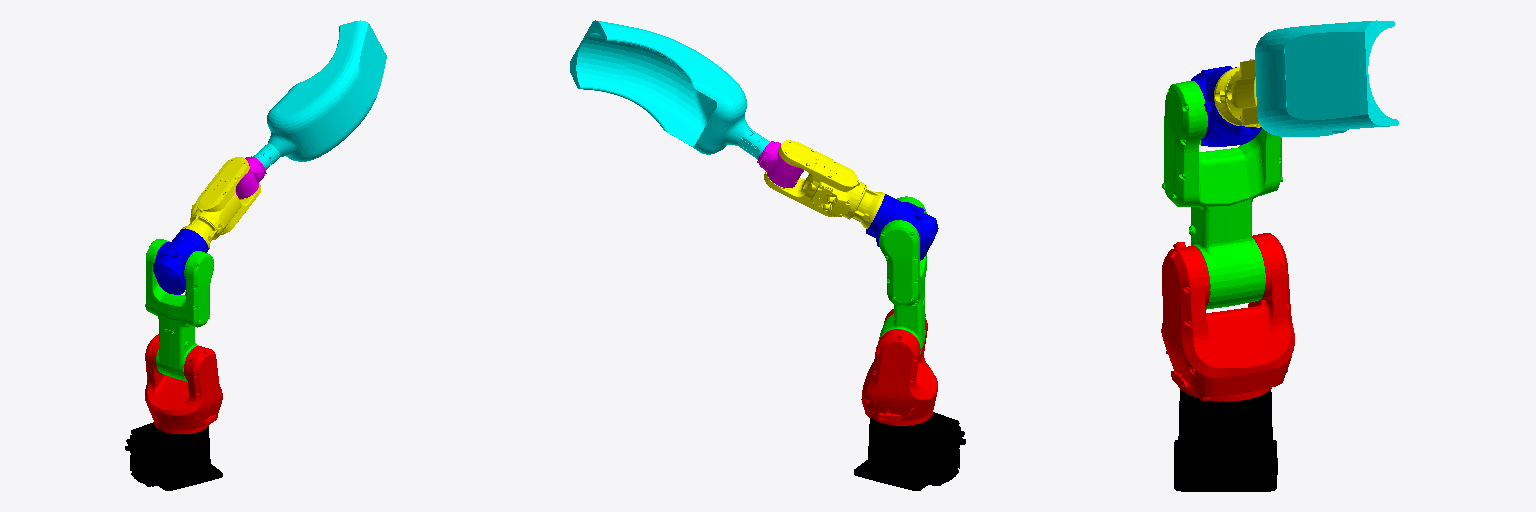
The robot description file, URDF, robot "robotcatch_robotinterface/urdf/IRB1100_xistera_right":
<?xml version="1.0" encoding="utf-8"?>
<!-- This URDF was automatically created by SolidWorks to URDF Exporter! Originally created by [author] ([email redacted]) 
     Commit Version: 1.6.0-4-g7f85cfe  Build Version: 1.6.7995.38578
     For more information, please see http://wiki.ros.org/sw_urdf_exporter -->
<robot
  name="robotcatch_robotinterface/urdf/IRB1100_xistera_right">
  <link
    name="base_link">
    <inertial>
      <origin
        xyz="-0.105283491089362 -0.0747974936088496 0.0720560356221441"
        rpy="0 0 0" />
      <mass
        value="9.57913203645447" />
      <inertia
        ixx="0.0304260038935618"
        ixy="9.44083492294534E-06"
        ixz="-0.000380191192485916"
        iyy="0.0471873448280596"
        iyz="7.14611049157652E-07"
        izz="0.0403438211255412" />
    </inertial>
    <visual>
      <origin
        xyz="0 0 0"
        rpy="0 0 0" />
      <geometry>
        <mesh
          filename="package://robotcatch_robotinterface/urdf/IRB1100_xistera_right/meshes/base_link.STL" />
      </geometry>
      <material
        name="">
        <color
          rgba="0 0 0 1" />
      </material>
    </visual>
    <collision>
      <origin
        xyz="0 0 0"
        rpy="0 0 0" />
      <geometry>
        <mesh
          filename="package://robotcatch_robotinterface/urdf/IRB1100_xistera_right/meshes/base_link.STL" />
      </geometry>
    </collision>
  </link>
  <link
    name="l1">
    <inertial>
      <origin
        xyz="0.00572305394703132 0.00265468563181887 0.07550875863073"
        rpy="0 0 0" />
      <mass
        value="8.45286215129813" />
      <inertia
        ixx="0.0476022498616155"
        ixy="0.0046357398431065"
        ixz="0.000433989974690969"
        iyy="0.0384660007274197"
        iyz="-0.000174868381419662"
        izz="0.0363031349606012" />
    </inertial>
    <visual>
      <origin
        xyz="0 0 0"
        rpy="0 0 0" />
      <geometry>
        <mesh
          filename="package://robotcatch_robotinterface/urdf/IRB1100_xistera_right/meshes/l1.STL" />
      </geometry>
      <material
        name="">
        <color
          rgba="1 0 0 1" />
      </material>
    </visual>
    <collision>
      <origin
        xyz="0 0 0"
        rpy="0 0 0" />
      <geometry>
        <mesh
          filename="package://robotcatch_robotinterface/urdf/IRB1100_xistera_right/meshes/l1.STL" />
      </geometry>
    </collision>
  </link>
  <joint
    name="j1"
    type="revolute">
    <origin
      xyz="-0.078905 -0.074803 0.15815"
      rpy="0 -0.017453 0" />
    <parent
      link="base_link" />
    <child
      link="l1" />
    <axis
      xyz="0 0 1" />
    <limit
      lower="-2.7453"
      upper="3.1888"
      effort="0"
      velocity="0" />
  </joint>
  <link
    name="l2">
    <inertial>
      <origin
        xyz="0.0330351324578218 -0.110024058313502 0.00211568322506046"
        rpy="0 0 0" />
      <mass
        value="6.55953315002978" />
      <inertia
        ixx="0.0736114896732282"
        ixy="0.0127315502901848"
        ixz="0.00502097661391875"
        iyy="0.0211742478294637"
        iyz="0.0013074234187404"
        izz="0.0716132422818738" />
    </inertial>
    <visual>
      <origin
        xyz="0 0 0"
        rpy="0 0 0" />
      <geometry>
        <mesh
          filename="package://robotcatch_robotinterface/urdf/IRB1100_xistera_right/meshes/l2.STL" />
      </geometry>
      <material
        name="">
        <color
          rgba="0 1 0 1" />
      </material>
    </visual>
    <collision>
      <origin
        xyz="0 0 0"
        rpy="0 0 0" />
      <geometry>
        <mesh
          filename="package://robotcatch_robotinterface/urdf/IRB1100_xistera_right/meshes/l2.STL" />
      </geometry>
    </collision>
  </link>
  <joint
    name="j2"
    type="continuous">
    <origin
      xyz="0 0 0.1775"
      rpy="-1.5708 -0.21645 2.9548" />
    <parent
      link="l1" />
    <child
      link="l2" />
    <axis
      xyz="0.53585 0.11783 -0.83605" />
  </joint>
  <link
    name="l3">
    <inertial>
      <origin
        xyz="0.00615223764918336 -0.00537758298118202 0.0496803044207493"
        rpy="0 0 0" />
      <mass
        value="2.86220192591443" />
      <inertia
        ixx="0.00441738632103778"
        ixy="0.000350530028062172"
        ixz="1.90998630024514E-05"
        iyy="0.00487160500741025"
        iyz="-2.30478869705661E-05"
        izz="0.0059901783669827" />
    </inertial>
    <visual>
      <origin
        xyz="0 0 0"
        rpy="0 0 0" />
      <geometry>
        <mesh
          filename="package://robotcatch_robotinterface/urdf/IRB1100_xistera_right/meshes/l3.STL" />
      </geometry>
      <material
        name="">
        <color
          rgba="0 0 1 1" />
      </material>
    </visual>
    <collision>
      <origin
        xyz="0 0 0"
        rpy="0 0 0" />
      <geometry>
        <mesh
          filename="package://robotcatch_robotinterface/urdf/IRB1100_xistera_right/meshes/l3.STL" />
      </geometry>
    </collision>
  </link>
  <joint
    name="j3"
    type="continuous">
    <origin
      xyz="0.031007 -0.26893 0.039981"
      rpy="-3.1416 -0.58075 0.21645" />
    <parent
      link="l2" />
    <child
      link="l3" />
    <axis
      xyz="0 0 1" />
  </joint>
  <link
    name="l4">
    <inertial>
      <origin
        xyz="0.00242926853281289 -0.000509824913846435 0.116310680318752"
        rpy="0 0 0" />
      <mass
        value="3.89100991021781" />
      <inertia
        ixx="0.018613433861176"
        ixy="-0.000155504657462431"
        ixz="0.000145978743861964"
        iyy="0.0175184111032994"
        iyz="0.000158188476271021"
        izz="0.00525764583572195" />
    </inertial>
    <visual>
      <origin
        xyz="0 0 0"
        rpy="0 0 0" />
      <geometry>
        <mesh
          filename="package://robotcatch_robotinterface/urdf/IRB1100_xistera_right/meshes/l4.STL" />
      </geometry>
      <material
        name="">
        <color
          rgba="1 1 0 1" />
      </material>
    </visual>
    <collision>
      <origin
        xyz="0 0 0"
        rpy="0 0 0" />
      <geometry>
        <mesh
          filename="package://robotcatch_robotinterface/urdf/IRB1100_xistera_right/meshes/l4.STL" />
      </geometry>
    </collision>
  </link>
  <joint
    name="j4"
    type="revolute">
    <origin
      xyz="-0.062356 0.040055 0.0485"
      rpy="2.8023 -1.5708 3.041" />
    <parent
      link="l3" />
    <child
      link="l4" />
    <axis
      xyz="0 0 1" />
    <limit
      lower="-3.4761"
      upper="2.8071"
      effort="0"
      velocity="0" />
  </joint>
  <link
    name="l5">
    <inertial>
      <origin
        xyz="-0.000543297924133823 0.0129323438733311 0.0136708003755951"
        rpy="0 0 0" />
      <mass
        value="0.000330181881227886" />
      <inertia
        ixx="2.90532047410457E-07"
        ixy="3.68743103233192E-09"
        ixz="2.85505526602895E-10"
        iyy="2.03474589194246E-07"
        iyz="-6.75081324979404E-09"
        izz="3.19916580648221E-07" />
    </inertial>
    <visual>
      <origin
        xyz="0 0 0"
        rpy="0 0 0" />
      <geometry>
        <mesh
          filename="package://robotcatch_robotinterface/urdf/IRB1100_xistera_right/meshes/l5.STL" />
      </geometry>
      <material
        name="">
        <color
          rgba="1 0 1 1" />
      </material>
    </visual>
    <collision>
      <origin
        xyz="0 0 0"
        rpy="0 0 0" />
      <geometry>
        <mesh
          filename="package://robotcatch_robotinterface/urdf/IRB1100_xistera_right/meshes/l5.STL" />
      </geometry>
    </collision>
  </link>
  <joint
    name="j5"
    type="revolute">
    <origin
      xyz="-0.0020854 -0.015149 0.2265"
      rpy="1.5708 0.2882 3.0066" />
    <parent
      link="l4" />
    <child
      link="l5" />
    <axis
      xyz="0 0 1" />
    <limit
      lower="-2.8881"
      upper="1.3007"
      effort="0"
      velocity="0" />
  </joint>
  <link
    name="l6">
    <inertial>
      <origin
        xyz="-0.017903 0.00035803 0.23098"
        rpy="0 0 0" />
      <mass
        value="2.6332" />
      <inertia
        ixx="0.013315"
        ixy="-8.8583E-05"
        ixz="0.0021755"
        iyy="0.0089519"
        iyz="-4.5071E-05"
        izz="0.010571" />
    </inertial>
    <visual>
      <origin
        xyz="0 0 0"
        rpy="0 0 0" />
      <geometry>
        <mesh
          filename="package://robotcatch_robotinterface/urdf/IRB1100_xistera_right/meshes/l6.STL" />
      </geometry>
      <material
        name="">
        <color
          rgba="0 1 1 1" />
      </material>
    </visual>
    <collision>
      <origin
        xyz="0 0 0"
        rpy="0 0 0" />
      <geometry>
        <mesh
          filename="package://robotcatch_robotinterface/urdf/IRB1100_xistera_right/meshes/l6.STL" />
      </geometry>
    </collision>
  </link>
  <joint
    name="j6"
    type="continuous">
    <origin
      xyz="-0.0027076 0.063943 0.0155"
      rpy="1.5708 -0.020207 -3.0993" />
    <parent
      link="l5" />
    <child
      link="l6" />
    <axis
      xyz="0 0 1" />
    <limit
      lower="-2.8881"
      upper="2.8881"
      effort="0"
      velocity="0" />
  </joint>
</robot>

--- What the picture shows (computed from the rendered views, not written in the file) ---
3 views of the same robot in one strip: view 1: azimuth 30°, elevation 25°; view 2: azimuth 150°, elevation 25°; view 3: azimuth 270°, elevation 25° (orthographic).
Model robotcatch_robotinterface/urdf/IRB1100_xistera_right with 7 links and 6 joints (3 revolute, 3 continuous), rooted at base_link, posed every joint at zero.
Links seen in each view (by area): view 1: l6, l2, l1, base_link, l4, l3, l5; view 2: l6, base_link, l1, l4, l2, l3, l5; view 3: l1, l2, l6, base_link, l4, l3.
Link boxes in pixels (bbox=[...]): l6: bbox=[253, 20, 386, 169]; l2: bbox=[145, 239, 213, 381]; l1: bbox=[145, 334, 222, 434]; base_link: bbox=[125, 422, 222, 490]; l4: bbox=[182, 157, 260, 248]; l3: bbox=[153, 228, 208, 294]; l5: bbox=[236, 156, 266, 198]; l6: bbox=[570, 20, 769, 159]; base_link: bbox=[854, 412, 965, 490]; l1: bbox=[861, 309, 937, 425]; l4: bbox=[764, 140, 884, 228]; l2: bbox=[878, 196, 926, 353]; l3: bbox=[866, 194, 938, 260]; l5: bbox=[757, 141, 803, 187]; l1: bbox=[1161, 233, 1294, 401]; l2: bbox=[1162, 81, 1282, 309]; l6: bbox=[1255, 20, 1398, 136]; base_link: bbox=[1174, 389, 1277, 491]; l4: bbox=[1214, 59, 1261, 127]; l3: bbox=[1191, 66, 1261, 146].
Bounding box of the posed robot: 0.8897 × 0.3603 × 1.06 m (x, y, z).
7 mesh visuals loaded from 7 distinct referenced files (7 binary STL).